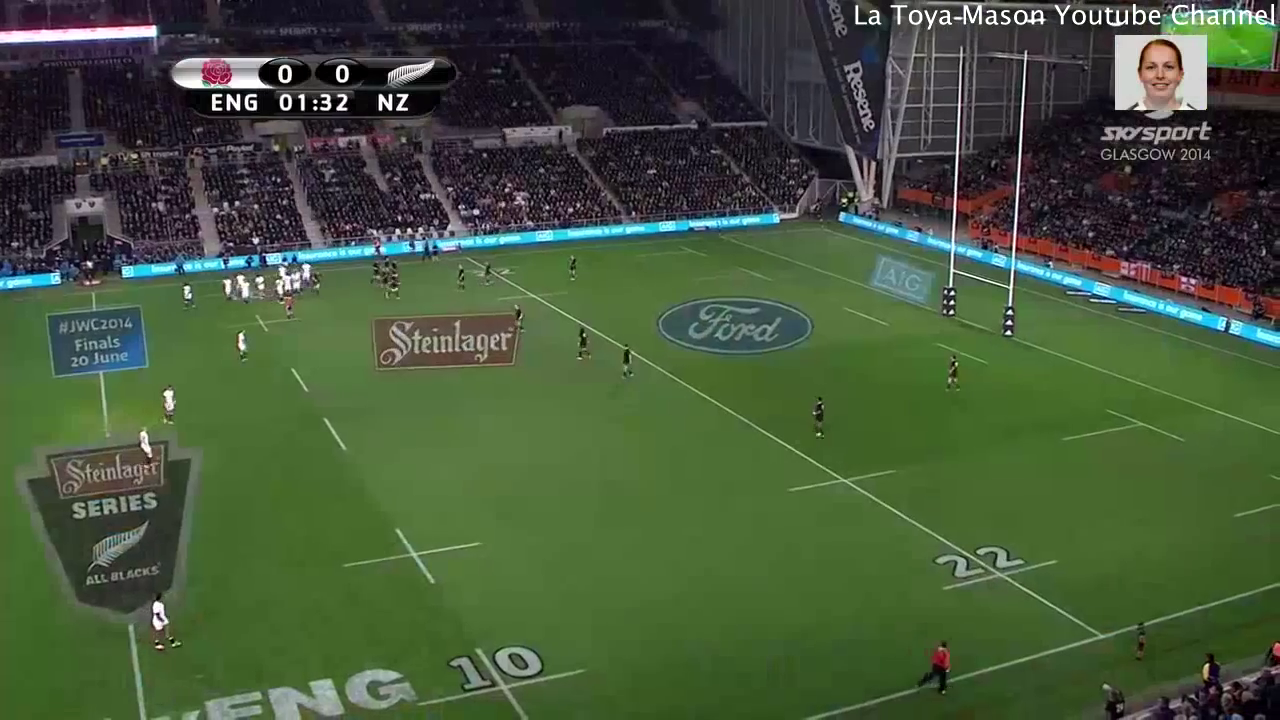10_metre: (409, 638, 592, 720), (331, 522, 490, 594), (228, 313, 304, 335)
player: (143, 590, 186, 653), (805, 392, 835, 442), (134, 424, 159, 468), (942, 351, 964, 393), (159, 383, 180, 426), (616, 340, 637, 382), (573, 324, 595, 364), (509, 300, 529, 336), (232, 329, 249, 366), (561, 254, 580, 284), (383, 273, 402, 302), (307, 268, 325, 298), (281, 291, 299, 321), (179, 281, 196, 312), (480, 258, 497, 287), (299, 259, 313, 292), (289, 268, 304, 298), (454, 259, 467, 292), (254, 271, 267, 301), (281, 271, 293, 300), (368, 260, 380, 286), (239, 280, 251, 305), (220, 276, 233, 299), (274, 276, 283, 306), (380, 255, 393, 274), (234, 273, 243, 292), (390, 259, 400, 275), (276, 263, 286, 276)
post: (936, 127, 1025, 345)
